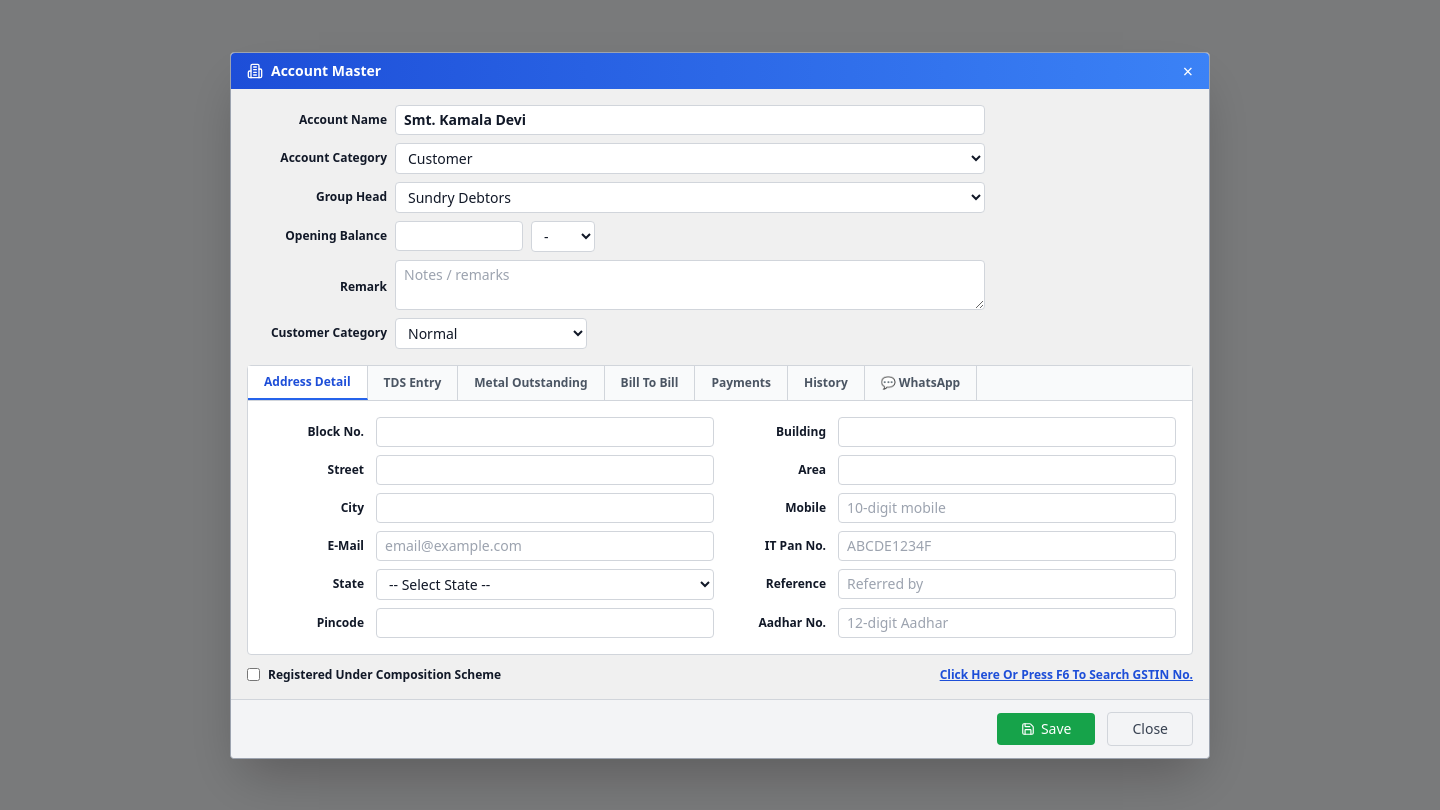
AccountMasterModal — Payments tab consolidated scheme rows › collapses installment rows when the consolidated row is clicked a second time
Click the button "Payments". click: x=742, y=382
box: [696,366,788,400]
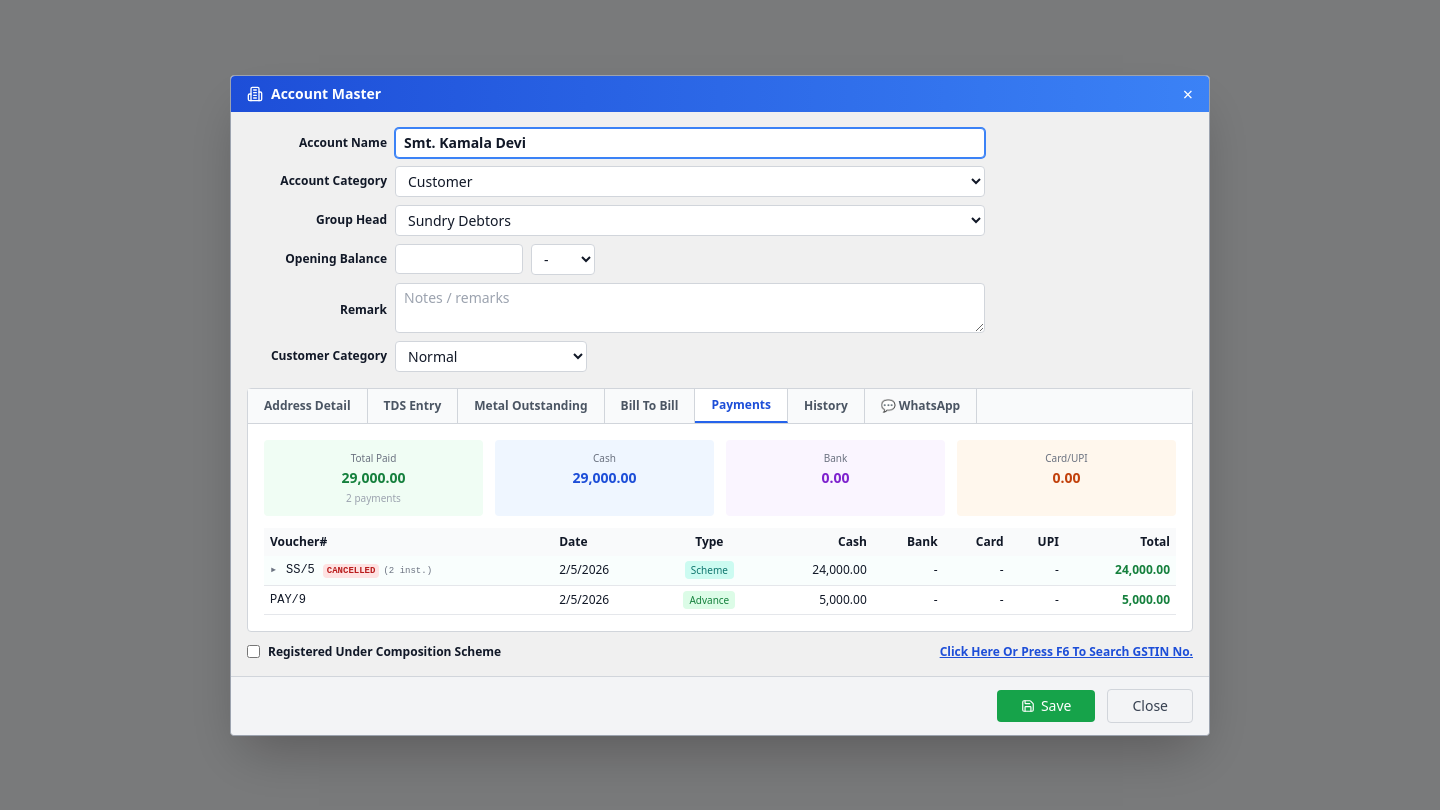
Click the row with test id "modal-scheme-consolidated-7". click: x=720, y=570
box: [264,556,1176,585]
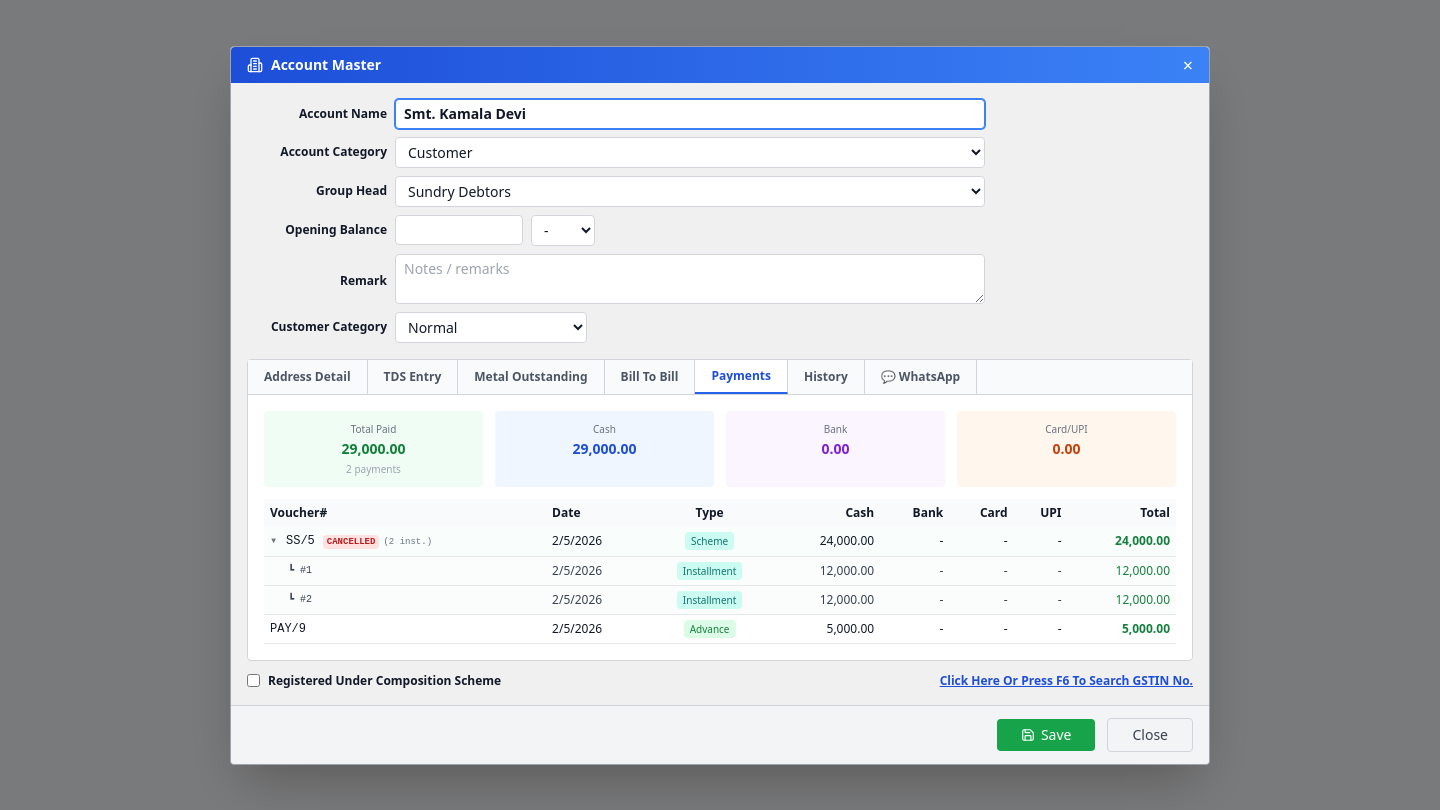
Expected: the row with test id "modal-scheme-child-7-1" is shown, [264,556,1176,585]
Click the row with test id "modal-scheme-consolidated-7". click: x=720, y=541
box: [264,526,1176,556]
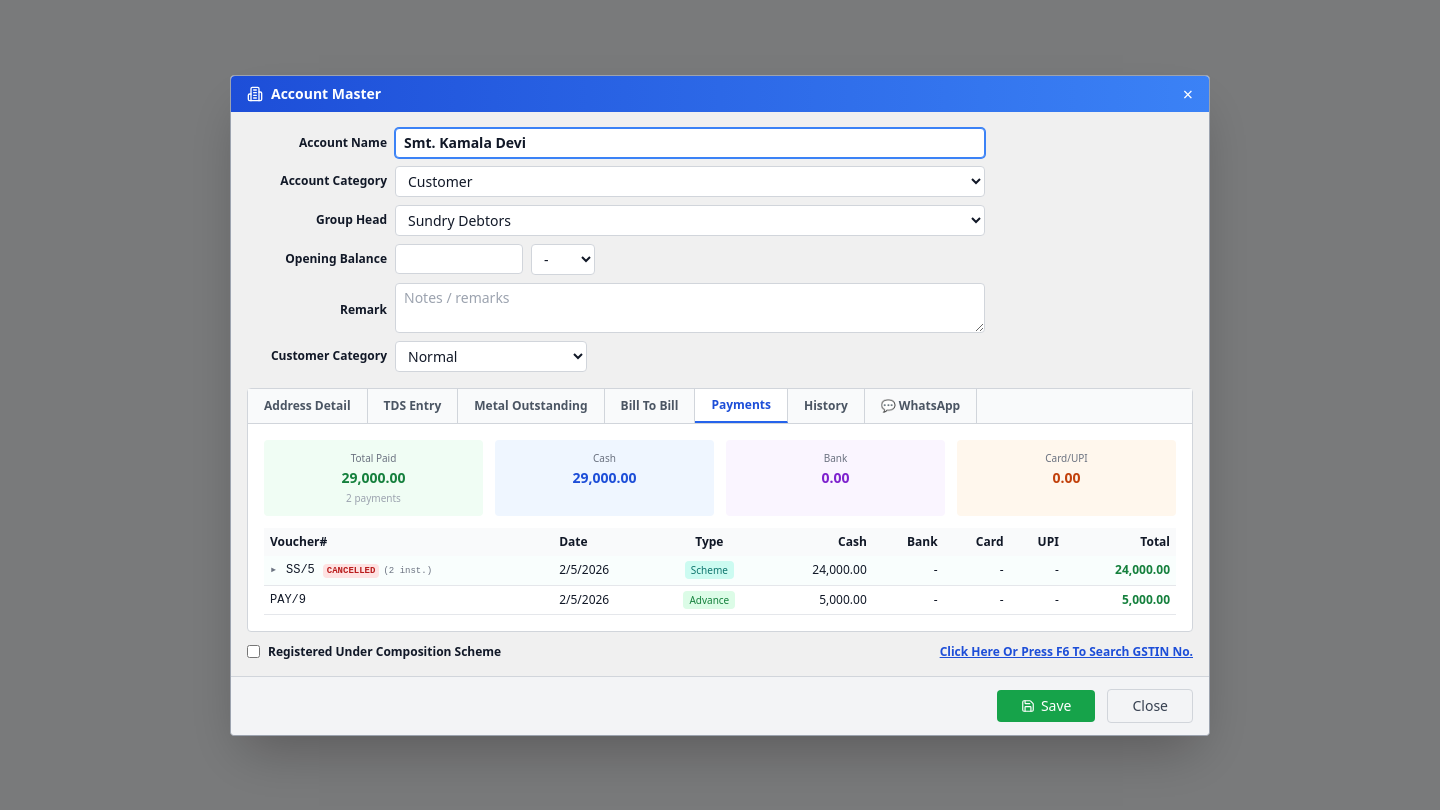
Expected: the row with test id "modal-scheme-child-7-1" is gone
